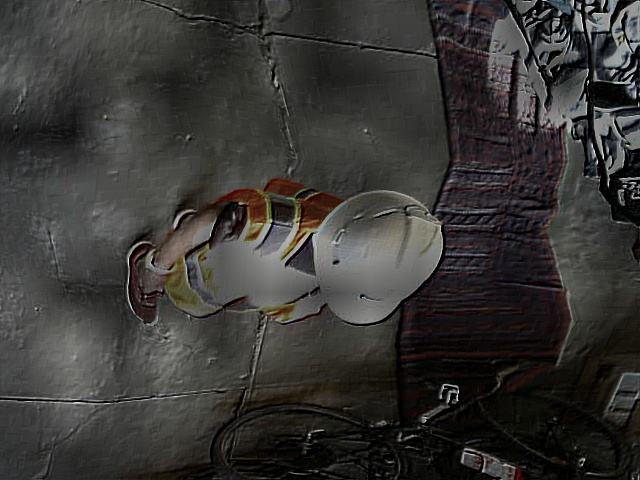two: (399, 203, 450, 226)
